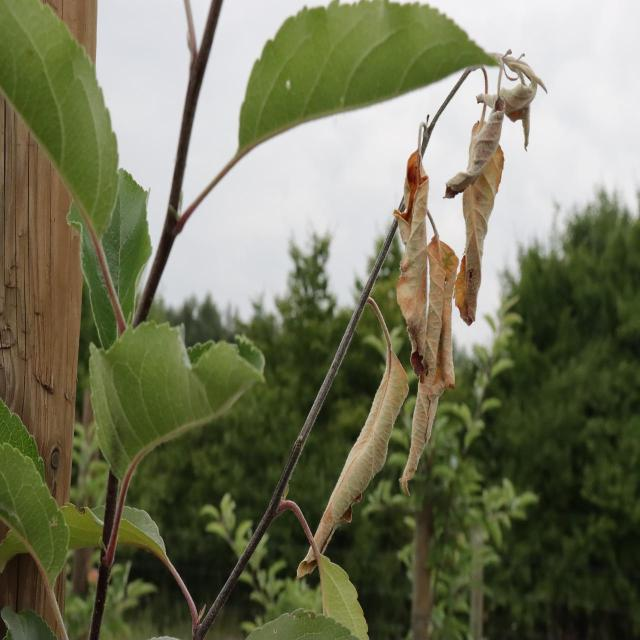-FireBlight-: (286, 48, 532, 572)
